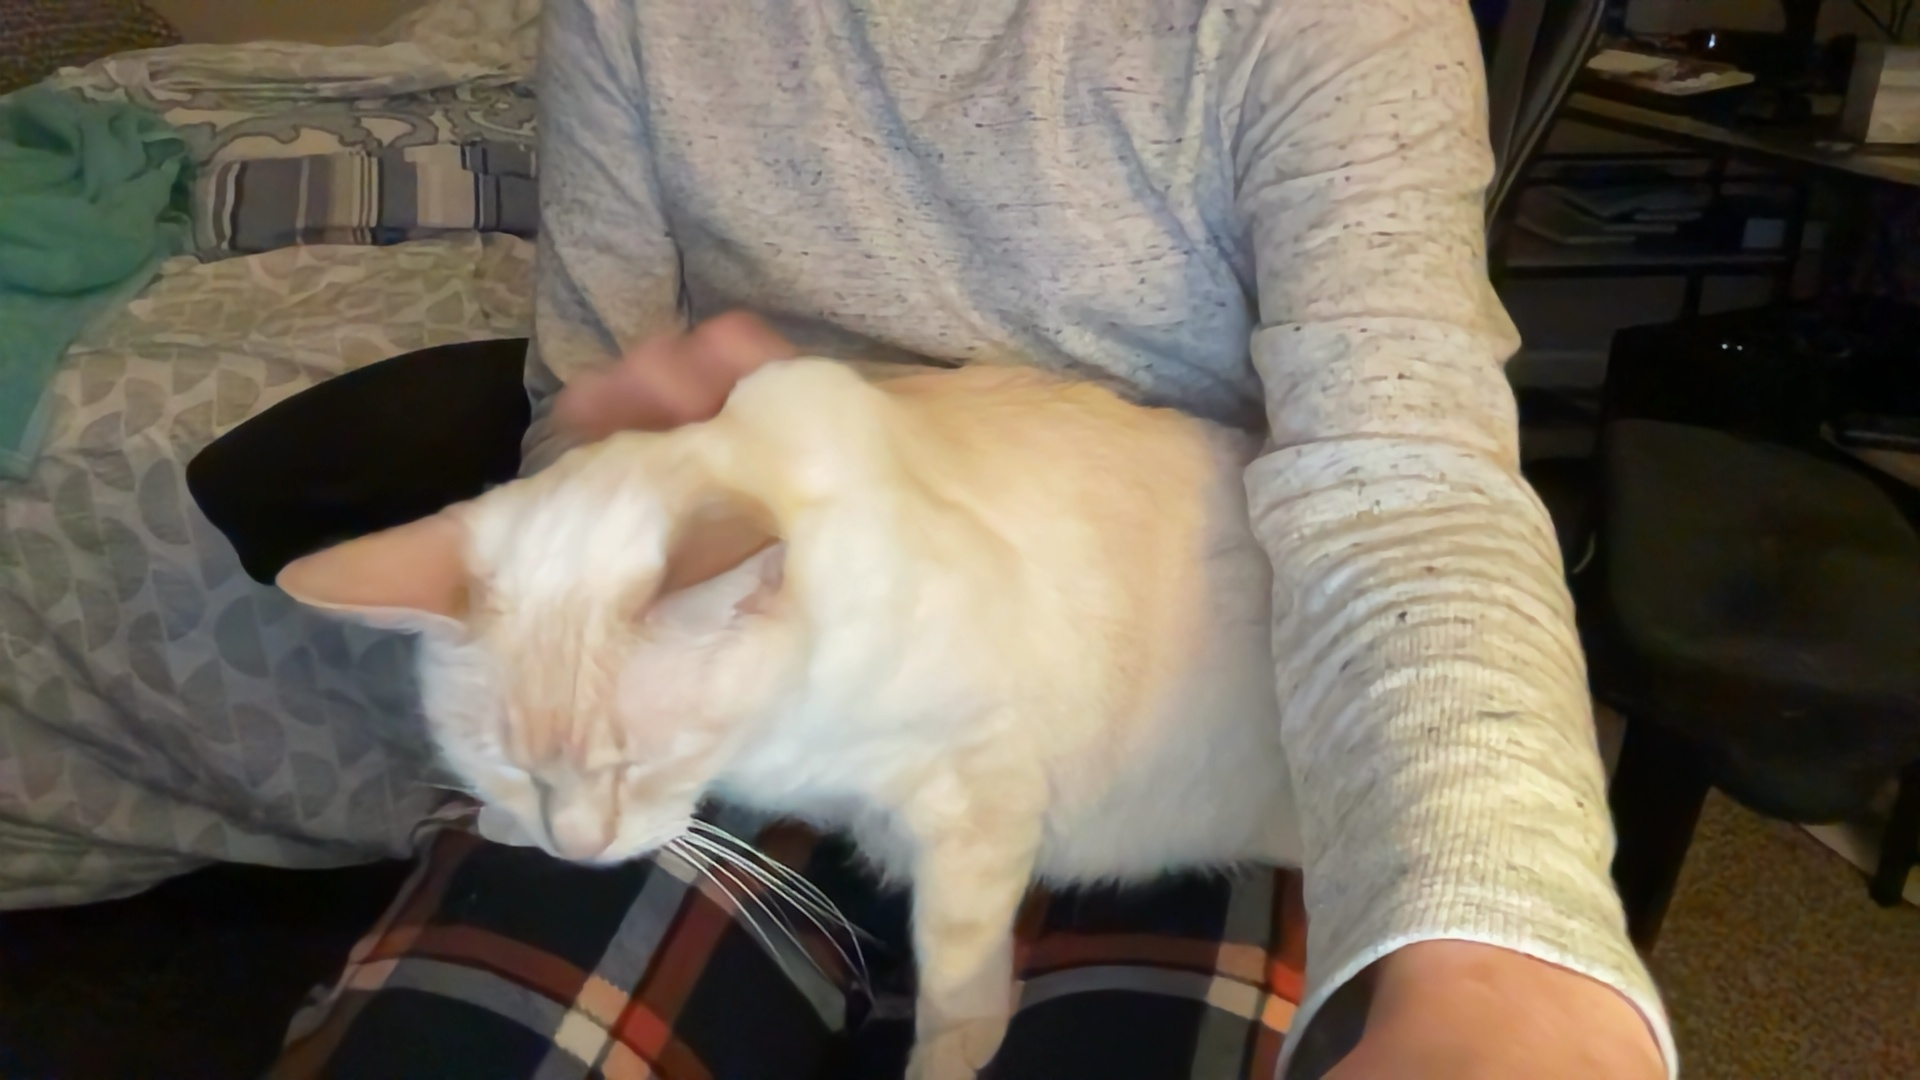cat: (280, 339, 1336, 1075)
